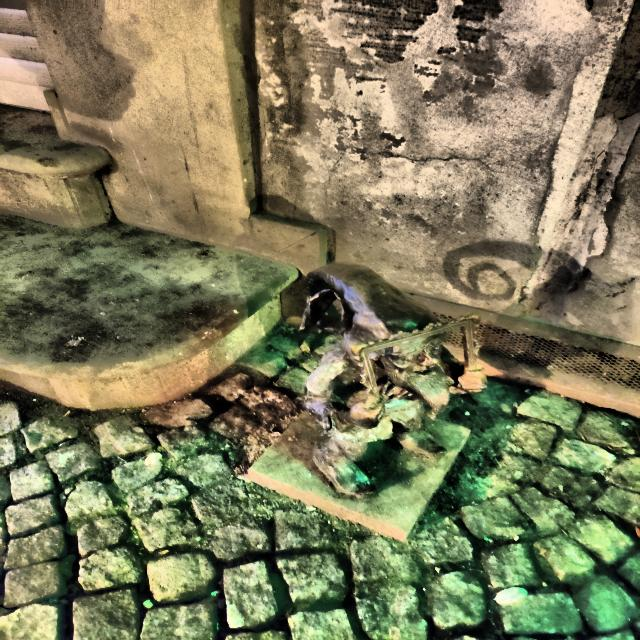Galeriusz: (300, 262, 487, 495)
